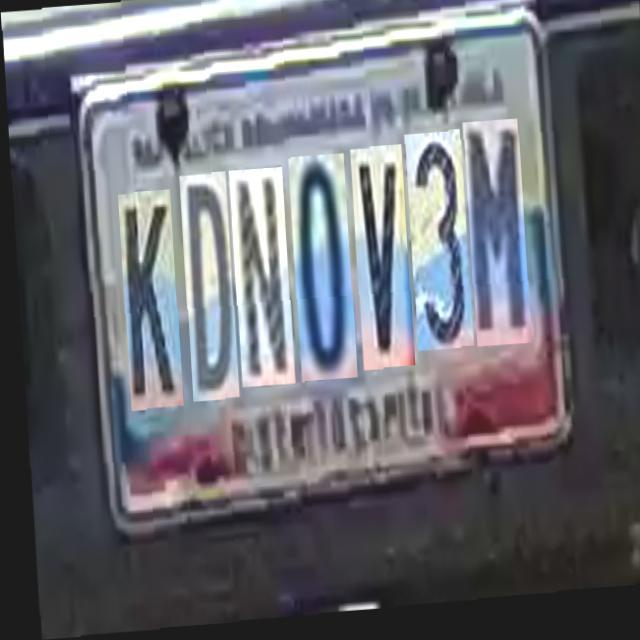3: (402, 134, 468, 354)
D: (175, 168, 232, 396)
K: (114, 184, 176, 404)
M: (460, 125, 526, 352)
N: (226, 165, 288, 385)
O: (285, 154, 351, 381)
V: (346, 148, 408, 372)
